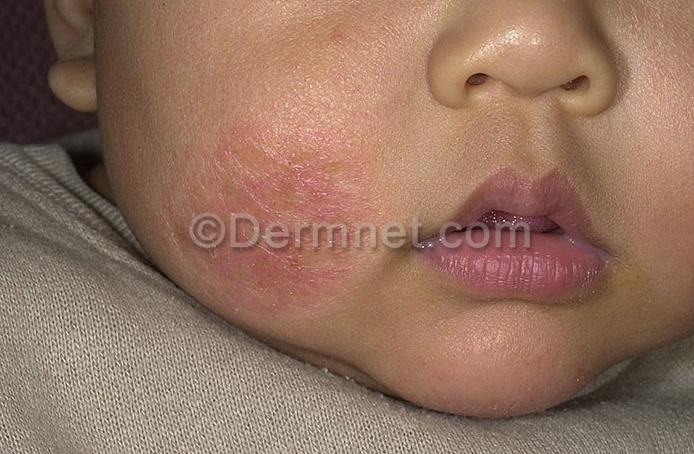edema 1: (156, 90, 409, 334)
exudacion 1: (380, 211, 440, 291)
exudacion 2: (597, 236, 648, 312)
liquenificacion 1: (173, 128, 370, 307)
xerosis 1: (173, 136, 362, 302)
